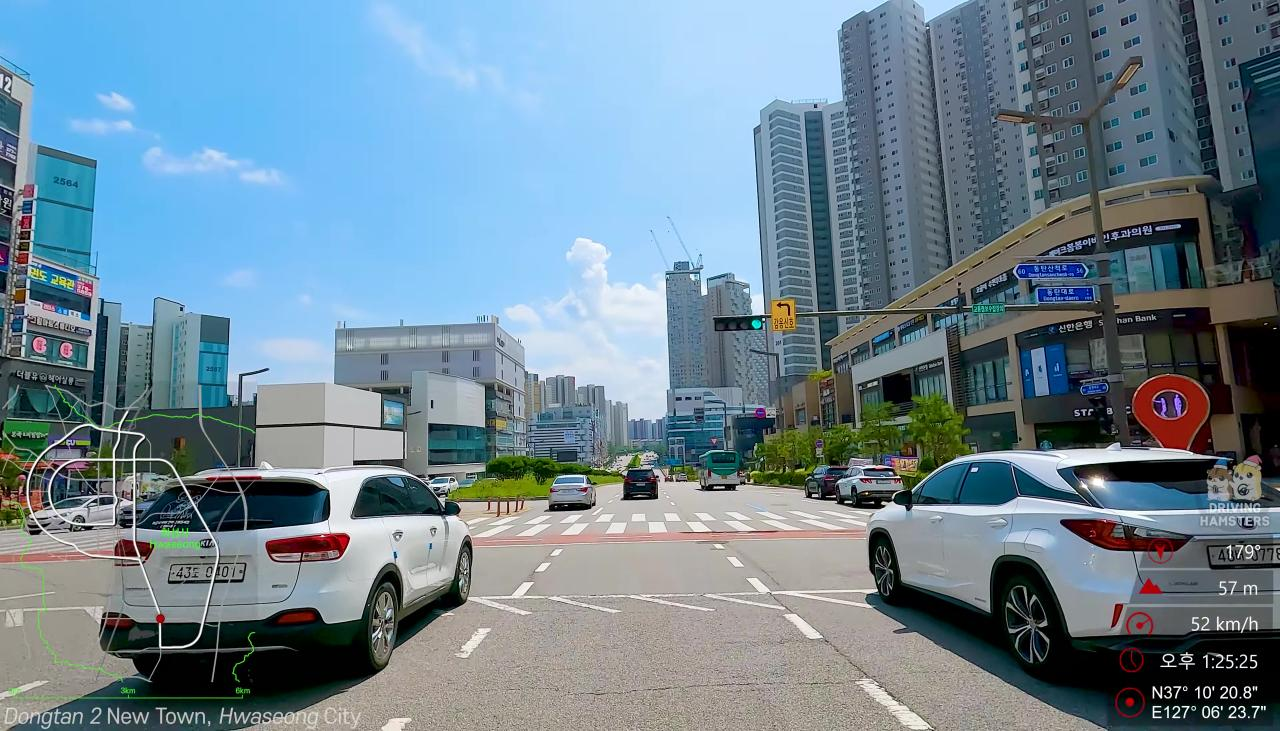Green Light: (750, 317, 762, 330)
